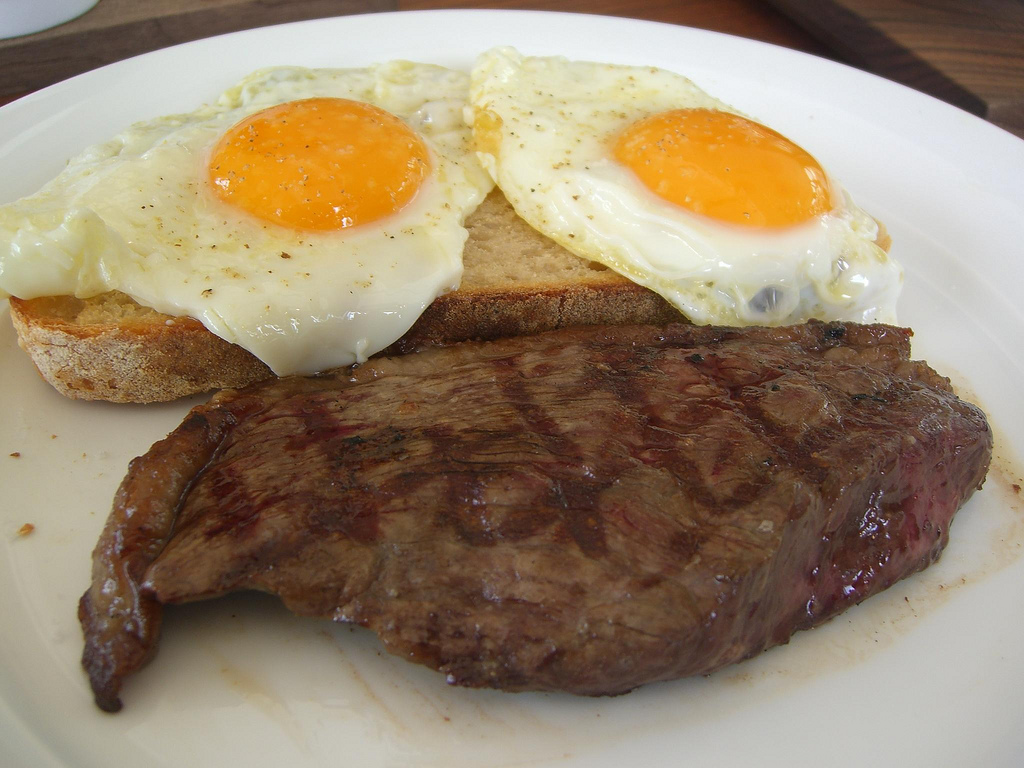fried egg: (58, 120, 873, 266)
slice of bread: (37, 268, 899, 314)
